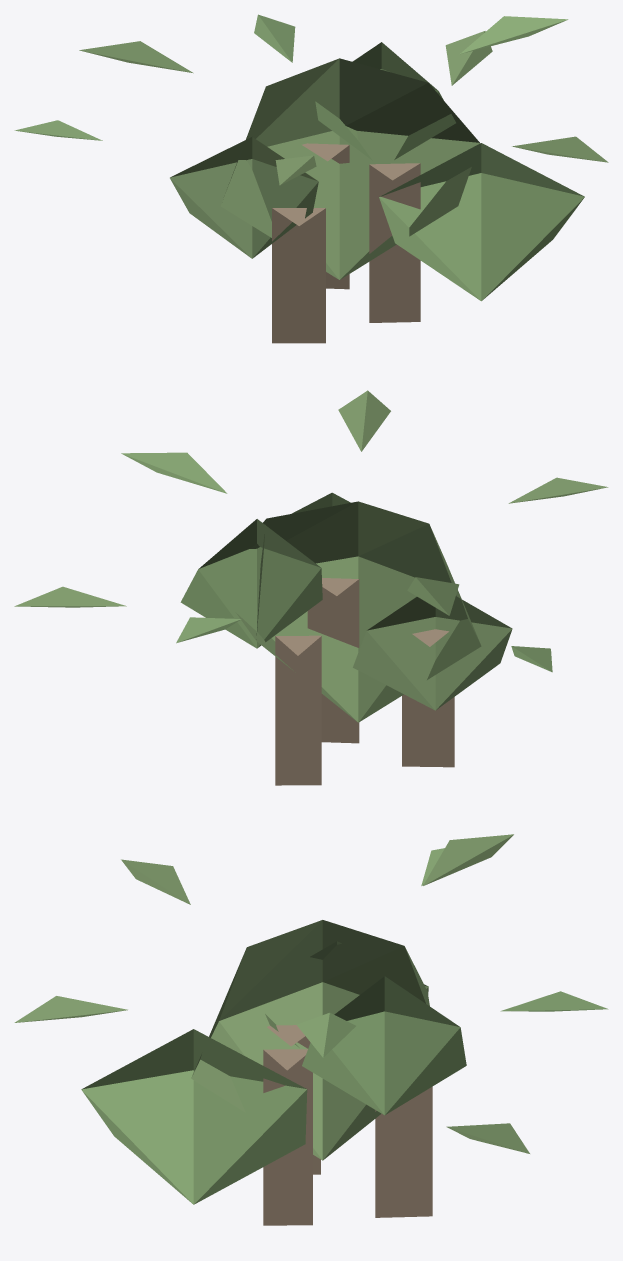
The model's file is guan.yueju@subadult__spring.glb.
3 views of the same model, one above another, from view 1: azimuth 30°, elevation 25°; view 2: azimuth 150°, elevation 25°; view 3: azimuth 270°, elevation 25° (orthographic). The views are drawn at different scales.
Visible parts, largest first — view 1: guan.yueju@subadult__spring; view 2: guan.yueju@subadult__spring; view 3: guan.yueju@subadult__spring.
Boxes of the visible parts, x1,y1,x2,y2 form: guan.yueju@subadult__spring: [14, 14, 608, 343]; guan.yueju@subadult__spring: [14, 390, 608, 785]; guan.yueju@subadult__spring: [14, 834, 608, 1225].
Bounding box in the file's own units: 1.01 × 0.5051 × 0.9469.
